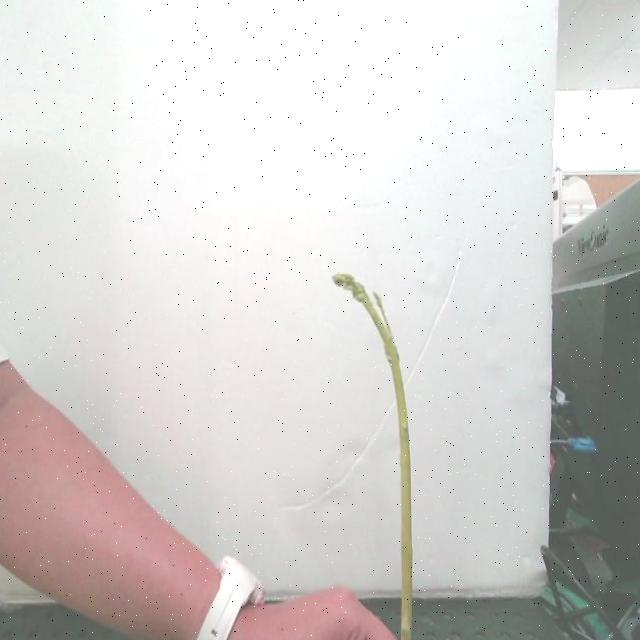aspargus: (335, 274, 416, 640)
